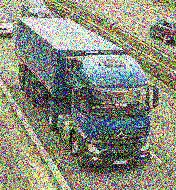truck: (17, 18, 160, 168)
